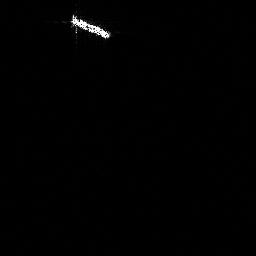ship: (69, 11, 114, 42)
